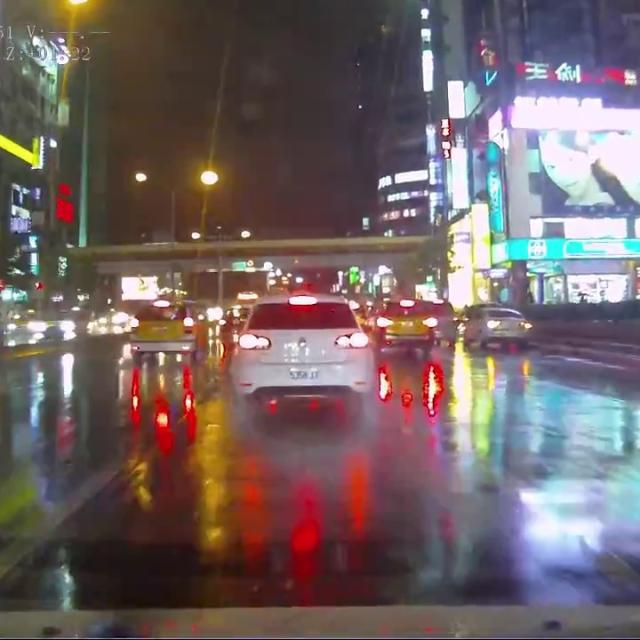Car: (232, 282, 378, 405), (125, 300, 195, 361), (459, 302, 533, 347), (375, 308, 434, 346)
